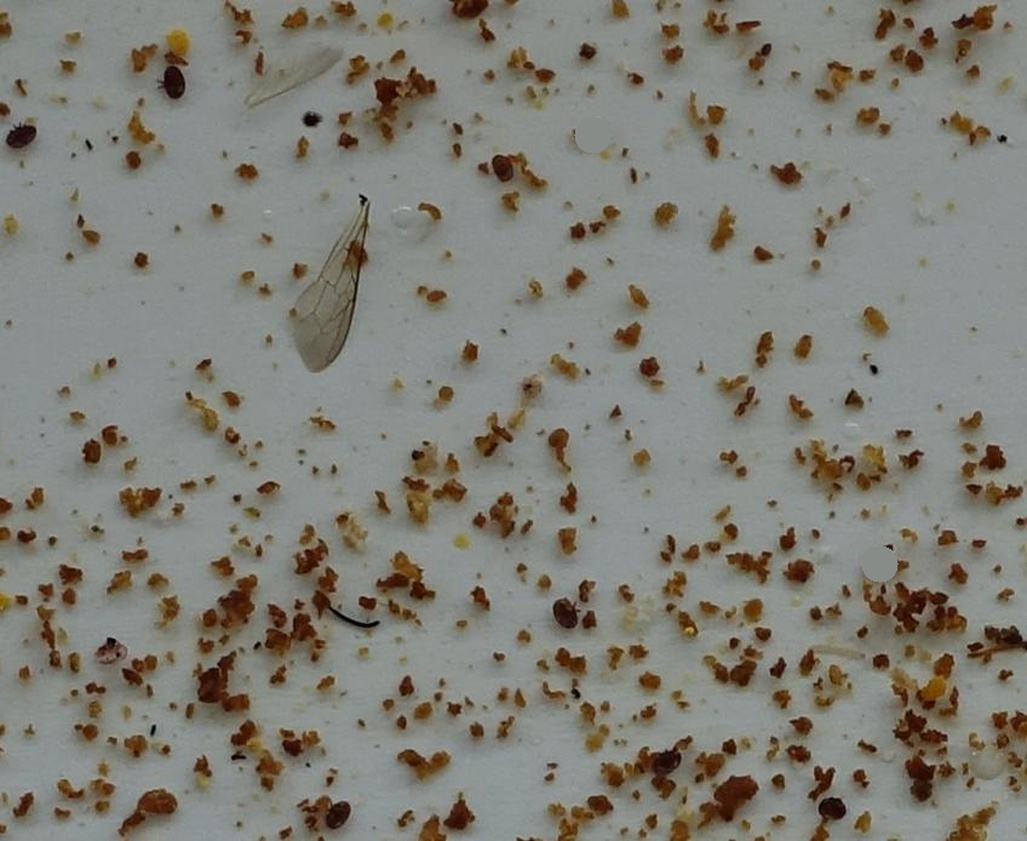Varroa: (90, 631, 132, 672), (163, 69, 188, 98), (317, 796, 343, 822), (15, 124, 35, 145), (653, 750, 671, 769), (495, 157, 515, 174), (817, 797, 838, 813), (559, 604, 578, 621)
